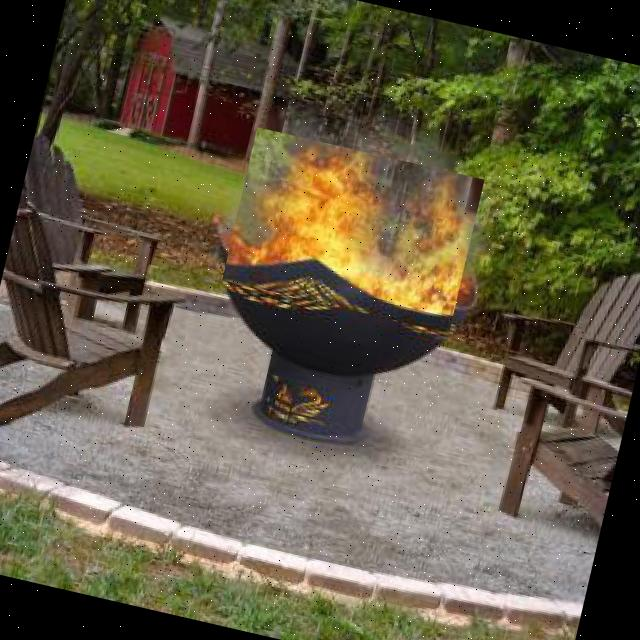fire: (222, 127, 484, 332)
